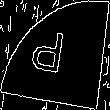P_S: (35, 26, 75, 84)
